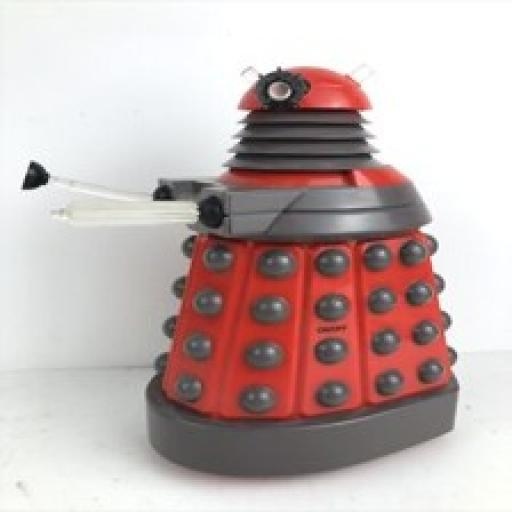dalek: (18, 61, 460, 478)
